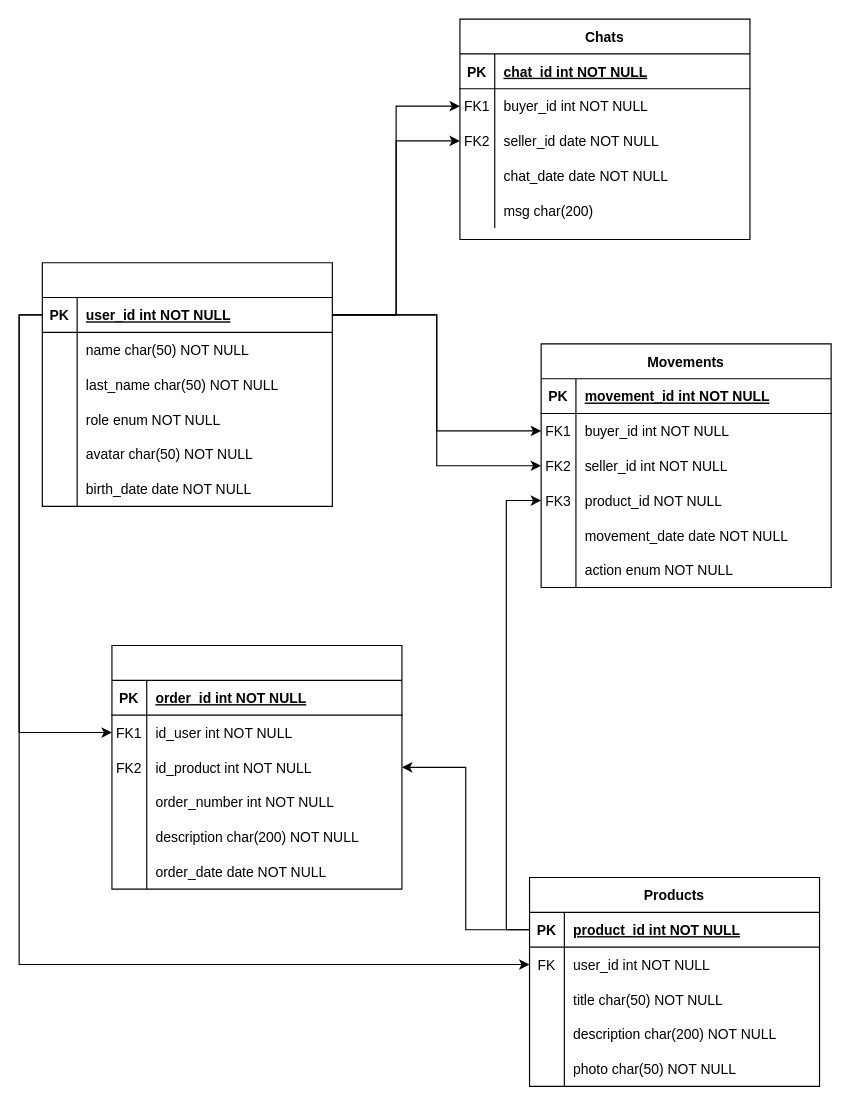
Image size: 850x1105. Some labels were removed from this diagram. The box of each missing label's shape, as (x1, y1, x2, y2) in pixels:
Orders: (111, 644, 402, 889)
Users: (41, 262, 332, 506)
